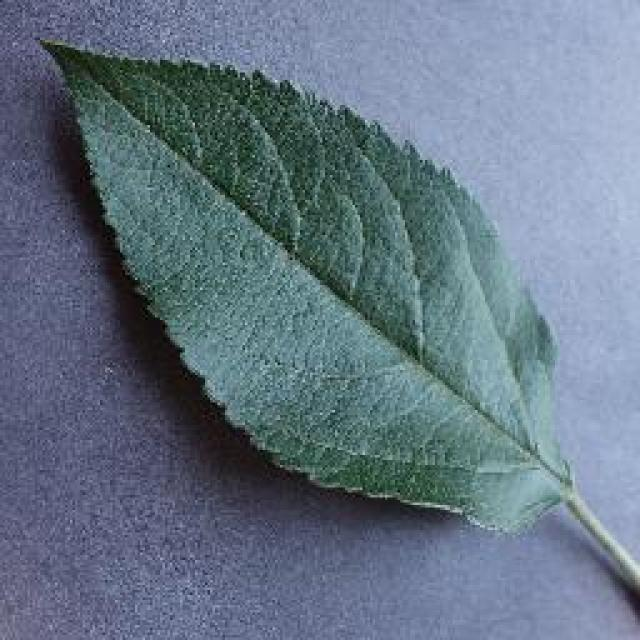apple healthy: (32, 32, 638, 638)
